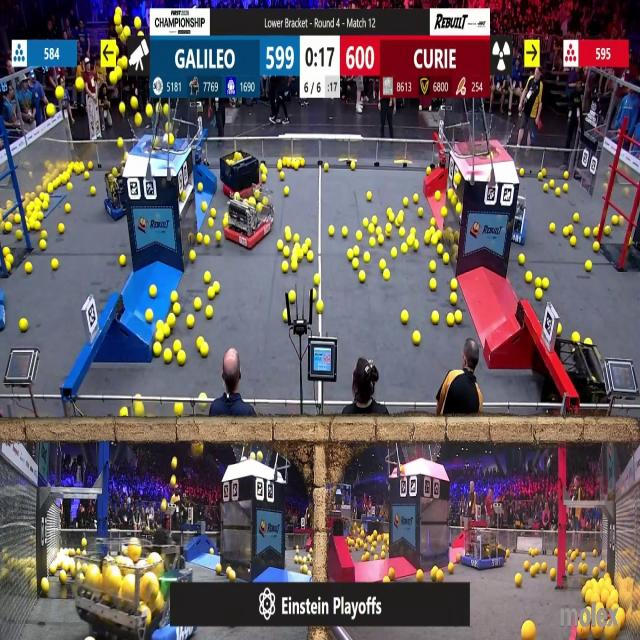ball_airborne: (192, 444, 202, 457), (46, 104, 54, 117), (134, 16, 142, 29), (135, 113, 143, 125), (109, 71, 116, 84), (146, 105, 153, 117), (118, 102, 125, 114), (57, 88, 64, 100), (76, 78, 83, 90), (132, 97, 138, 110), (172, 457, 178, 470), (118, 68, 124, 80), (114, 14, 121, 24), (115, 26, 122, 36), (172, 476, 178, 487), (162, 499, 168, 510), (122, 26, 128, 37), (120, 58, 126, 69), (117, 138, 123, 148), (172, 495, 178, 504), (256, 452, 262, 461), (169, 135, 174, 145), (165, 104, 170, 114), (115, 7, 121, 15), (138, 31, 144, 38)
ball_ground: (523, 622, 535, 640), (135, 403, 144, 418), (174, 404, 183, 418), (201, 344, 209, 358), (152, 344, 161, 356), (400, 311, 408, 324), (186, 315, 194, 328), (177, 352, 185, 365), (165, 350, 173, 363), (284, 229, 292, 242), (226, 568, 234, 581), (294, 245, 302, 258), (19, 318, 26, 332), (42, 580, 49, 594), (316, 302, 324, 314), (204, 272, 212, 284), (434, 569, 442, 581), (193, 296, 200, 309), (431, 312, 438, 325), (149, 285, 156, 298), (414, 333, 421, 346), (61, 570, 68, 583), (450, 292, 458, 303), (282, 263, 290, 274), (288, 290, 296, 301), (173, 341, 181, 352), (168, 315, 176, 326), (4, 221, 12, 232), (146, 310, 153, 322), (516, 573, 523, 585), (172, 290, 179, 302), (358, 272, 365, 284), (429, 279, 436, 291), (206, 307, 213, 319), (314, 274, 321, 286), (173, 304, 180, 316), (550, 568, 557, 580), (26, 264, 33, 275), (451, 280, 458, 291), (383, 270, 390, 281), (417, 569, 424, 580), (208, 288, 215, 299), (213, 282, 220, 293), (436, 242, 443, 253), (195, 339, 202, 350), (396, 214, 403, 225), (119, 254, 125, 266), (536, 288, 542, 300), (455, 312, 461, 324), (51, 260, 57, 272), (448, 314, 454, 326), (526, 272, 532, 284), (429, 262, 435, 274), (586, 262, 593, 272), (283, 247, 290, 257), (352, 261, 359, 271), (572, 334, 579, 344), (563, 226, 570, 236), (155, 333, 162, 343), (188, 250, 195, 260), (530, 566, 537, 576), (388, 212, 395, 222), (430, 236, 437, 246), (381, 261, 387, 272), (449, 563, 455, 574), (343, 226, 349, 237), (312, 289, 318, 300), (579, 563, 585, 574), (367, 224, 374, 233), (60, 223, 66, 233), (283, 310, 288, 322), (520, 254, 526, 264), (291, 262, 297, 272), (308, 251, 314, 261), (40, 240, 46, 250), (570, 237, 576, 247), (541, 279, 547, 289), (391, 248, 397, 258), (348, 250, 354, 260), (444, 253, 450, 263), (594, 242, 600, 252), (524, 561, 530, 571), (363, 252, 369, 262), (327, 225, 333, 235), (362, 217, 368, 227), (204, 236, 210, 246), (402, 198, 408, 208), (586, 228, 592, 238), (604, 225, 610, 235), (535, 278, 541, 288), (550, 222, 556, 232), (611, 215, 617, 225), (195, 234, 201, 244), (365, 190, 371, 200), (35, 220, 41, 230), (5, 264, 11, 274), (414, 241, 420, 251), (164, 326, 170, 336), (414, 192, 420, 202), (567, 564, 573, 574), (424, 236, 430, 246), (540, 562, 546, 572), (434, 230, 440, 240), (456, 204, 462, 214), (35, 212, 41, 222), (200, 392, 207, 400), (155, 320, 162, 328), (443, 208, 449, 217), (368, 238, 374, 247), (15, 232, 21, 241), (401, 244, 407, 253), (379, 237, 385, 246), (120, 409, 126, 418), (65, 204, 71, 213), (398, 229, 404, 238), (557, 325, 563, 334), (573, 213, 579, 222), (593, 229, 599, 238), (42, 201, 48, 210), (449, 189, 455, 198), (292, 160, 298, 169), (299, 565, 305, 574), (284, 185, 289, 195), (216, 564, 221, 574), (307, 239, 312, 249), (354, 247, 359, 257), (211, 208, 216, 218), (278, 239, 283, 249), (326, 162, 331, 172), (409, 238, 414, 248), (593, 567, 598, 577), (356, 232, 362, 240), (293, 235, 299, 243), (388, 568, 394, 576), (4, 248, 10, 256), (67, 182, 73, 190), (40, 232, 46, 240), (350, 164, 356, 172), (6, 255, 12, 263), (195, 182, 201, 190), (92, 186, 97, 195), (216, 233, 221, 242), (419, 208, 424, 217), (203, 203, 208, 212), (209, 218, 214, 227), (556, 187, 561, 196), (600, 561, 605, 570), (299, 160, 304, 169), (384, 575, 390, 582), (411, 227, 417, 234), (260, 175, 266, 182), (586, 339, 592, 346), (375, 554, 381, 561), (362, 555, 368, 562), (14, 216, 20, 223), (136, 393, 142, 400), (381, 554, 388, 560), (435, 191, 440, 199), (551, 182, 556, 190), (371, 216, 376, 224), (387, 224, 392, 232), (542, 184, 547, 192), (426, 168, 431, 176), (564, 172, 569, 180), (210, 546, 215, 554), (580, 553, 585, 561), (47, 184, 52, 192), (278, 160, 283, 168), (570, 554, 575, 562), (564, 183, 568, 192), (520, 169, 524, 178), (430, 218, 435, 225), (377, 226, 382, 233), (537, 173, 542, 180), (456, 555, 461, 562), (529, 550, 534, 557), (200, 186, 204, 194), (84, 172, 88, 180), (280, 172, 284, 180), (308, 568, 312, 576), (223, 218, 227, 226), (90, 163, 94, 170), (555, 550, 559, 557), (594, 551, 598, 557)
goal: (460, 118, 517, 158), (130, 114, 188, 152)
robot_blue: (74, 537, 202, 640), (461, 528, 505, 571), (104, 169, 128, 219), (506, 200, 528, 244)
robot_red: (533, 340, 611, 415), (225, 188, 275, 248), (220, 150, 260, 198)
